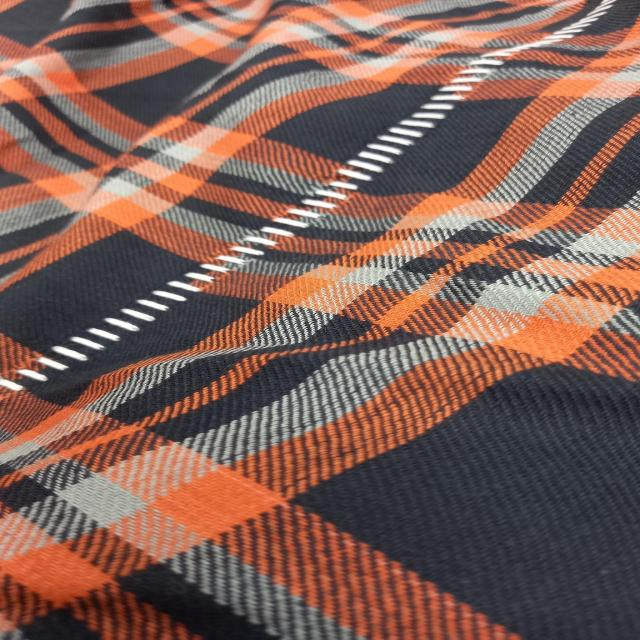gray stitch: (4, 64, 493, 407), (516, 4, 618, 46)
